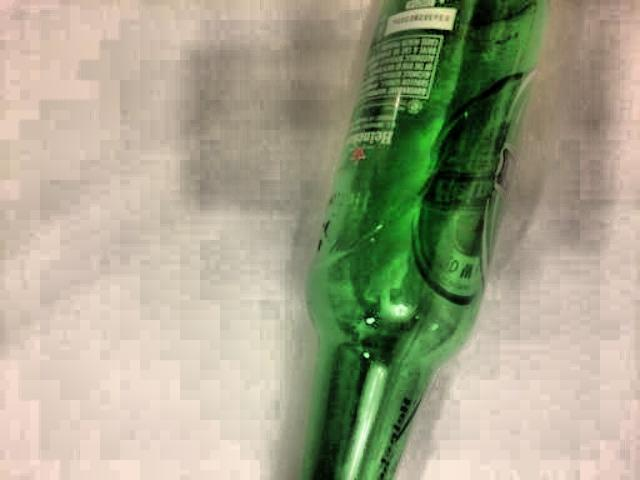Bottles: (311, 0, 537, 480)
